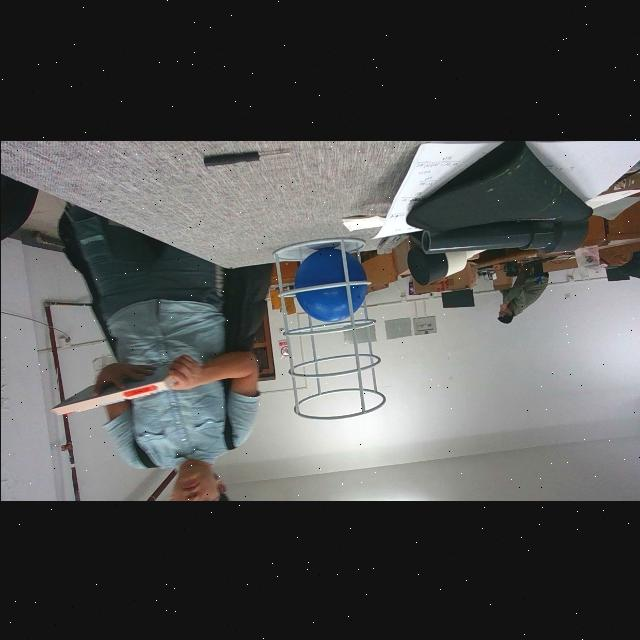B: (292, 247, 366, 321)
S: (269, 236, 386, 419)
